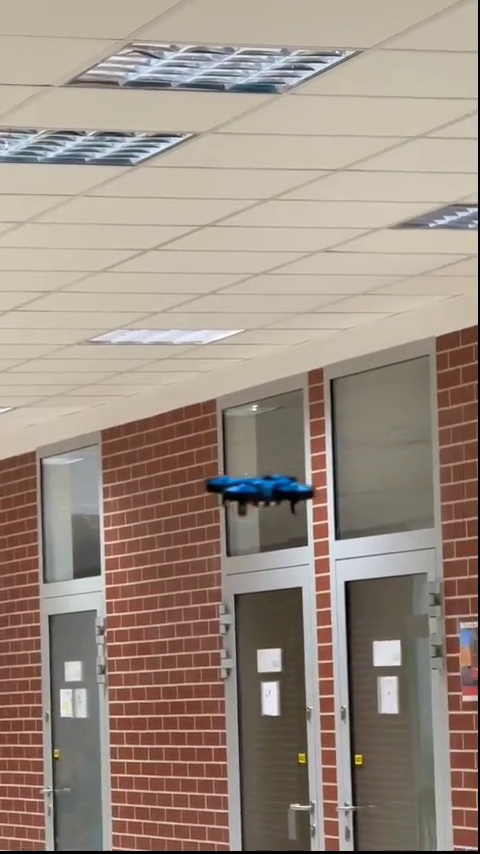drone: (208, 467, 311, 507)
